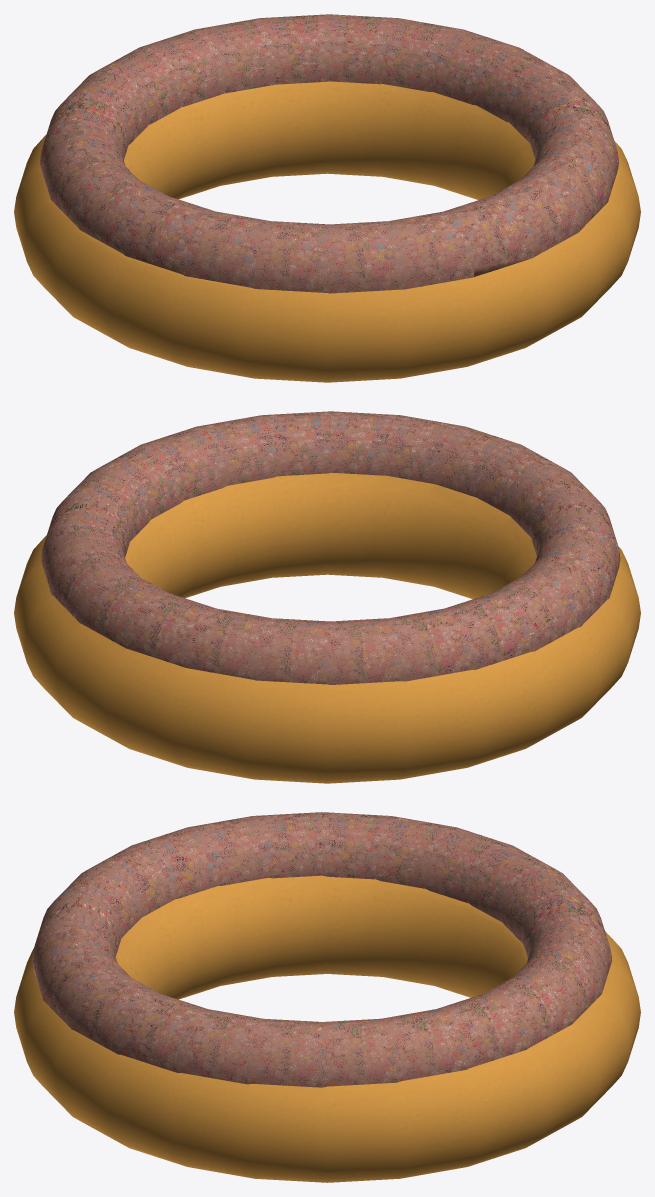
The model's file is sprinkle donut.dae.
3 renders of one model, top to bottom at view 1: azimuth 30°, elevation 25°; view 2: azimuth 150°, elevation 25°; view 3: azimuth 270°, elevation 25°, orthographic.
Visible parts, largest first — view 1: SketchUp_001, SketchUp; view 2: SketchUp_001, SketchUp; view 3: SketchUp_001, SketchUp.
Part boxes in pixels (left/top/right/bottom): SketchUp_001: left=14, top=81, right=640, bottom=382; SketchUp: left=40, top=14, right=618, bottom=293; SketchUp_001: left=14, top=472, right=640, bottom=783; SketchUp: left=41, top=411, right=620, bottom=684; SketchUp_001: left=14, top=875, right=640, bottom=1182; SketchUp: left=32, top=812, right=611, bottom=1087.
Size of the model in its own units: 1 by 1 by 0.2674.
2 materials, 2 textured.
